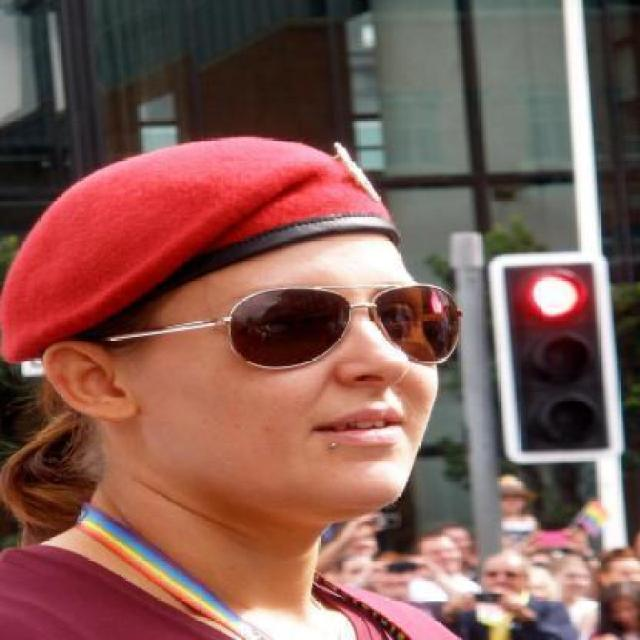face_nomask: (225, 272, 427, 480)
glasses: (228, 282, 455, 380)
head_nohelmet: (10, 121, 392, 296)
